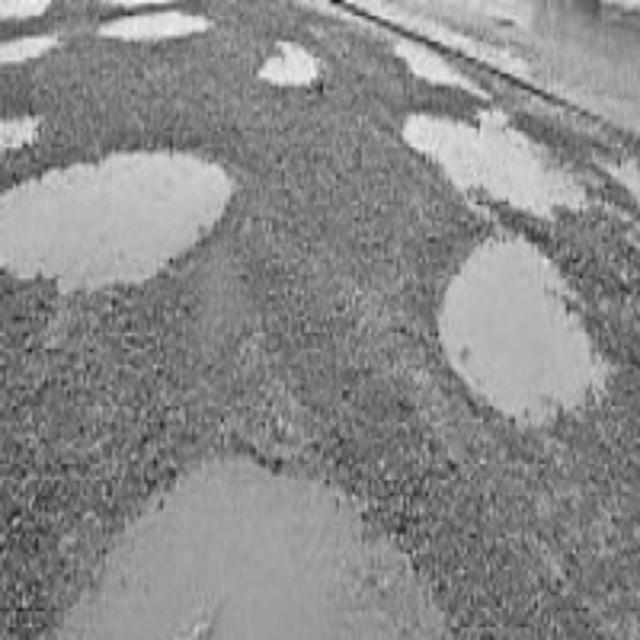Pothole: (92, 492, 340, 640), (456, 227, 594, 395), (13, 145, 196, 271), (408, 96, 552, 220), (10, 7, 73, 82), (102, 1, 196, 50), (259, 36, 321, 95)
